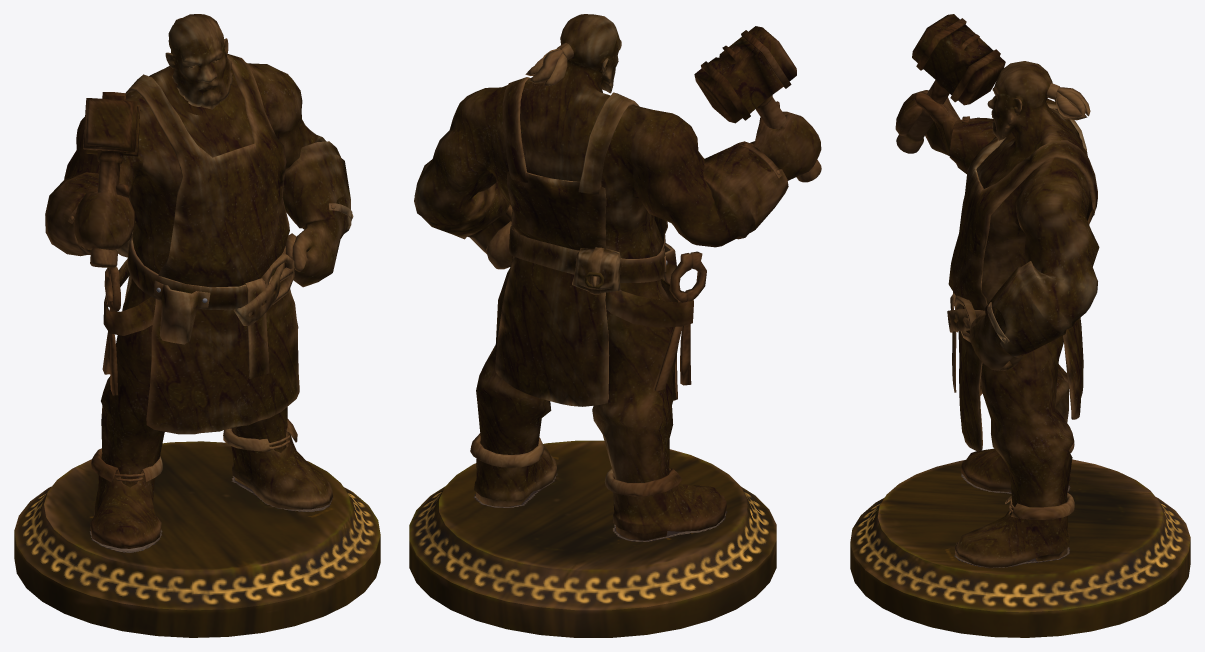
File: Figurka_blacksmith.fbx
3 renders of one model, left to right at view 1: azimuth 30°, elevation 25°; view 2: azimuth 150°, elevation 25°; view 3: azimuth 270°, elevation 25°, orthographic. The views are drawn at different scales.
Parts seen in each view (by area): view 1: Figurka_blacksmith; view 2: Figurka_blacksmith; view 3: Figurka_blacksmith.
Part boxes in pixels (x1,y1,x2,y2): Figurka_blacksmith: (14, 14, 380, 637); Figurka_blacksmith: (409, 14, 821, 637); Figurka_blacksmith: (850, 14, 1190, 637).
Bounding box in the file's own units: 0.3141 × 0.4963 × 0.3041.
1 material, 1 textured.
